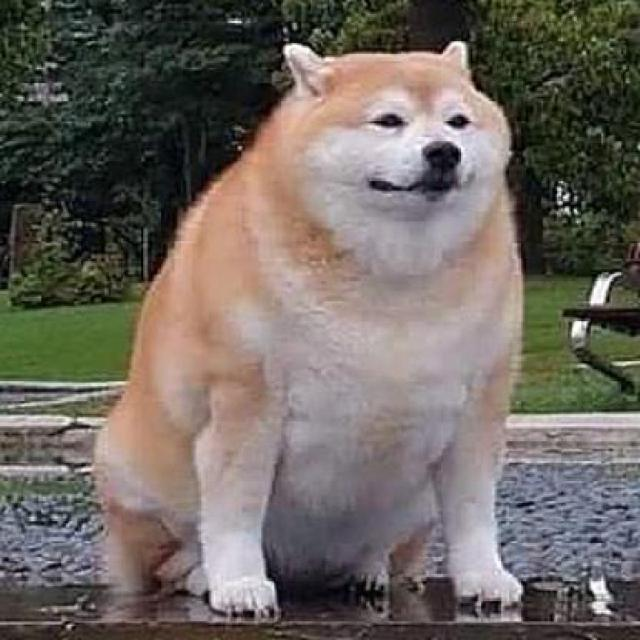Dog: (89, 29, 526, 614)
